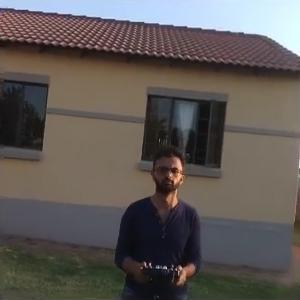follow: (111, 139, 208, 298)
